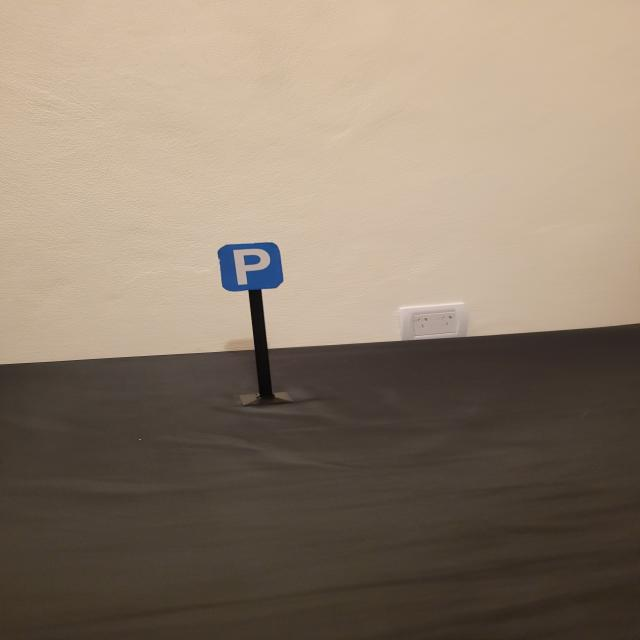parking: (217, 242, 286, 292)
